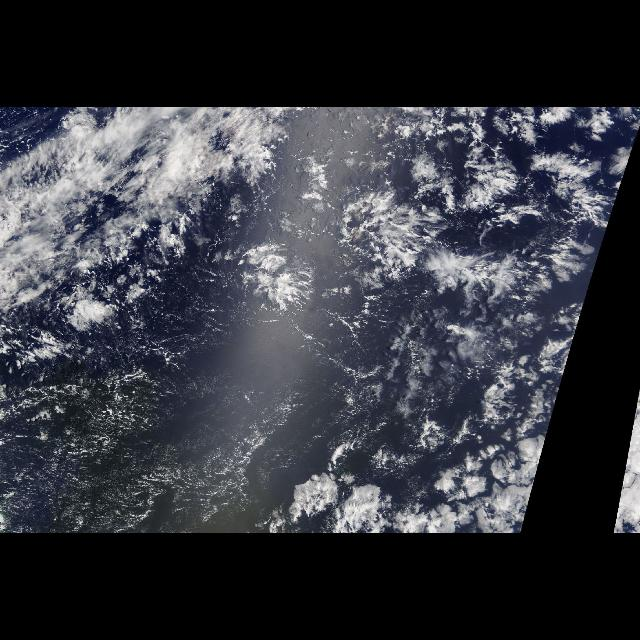Sugar: (7, 348, 266, 528)
